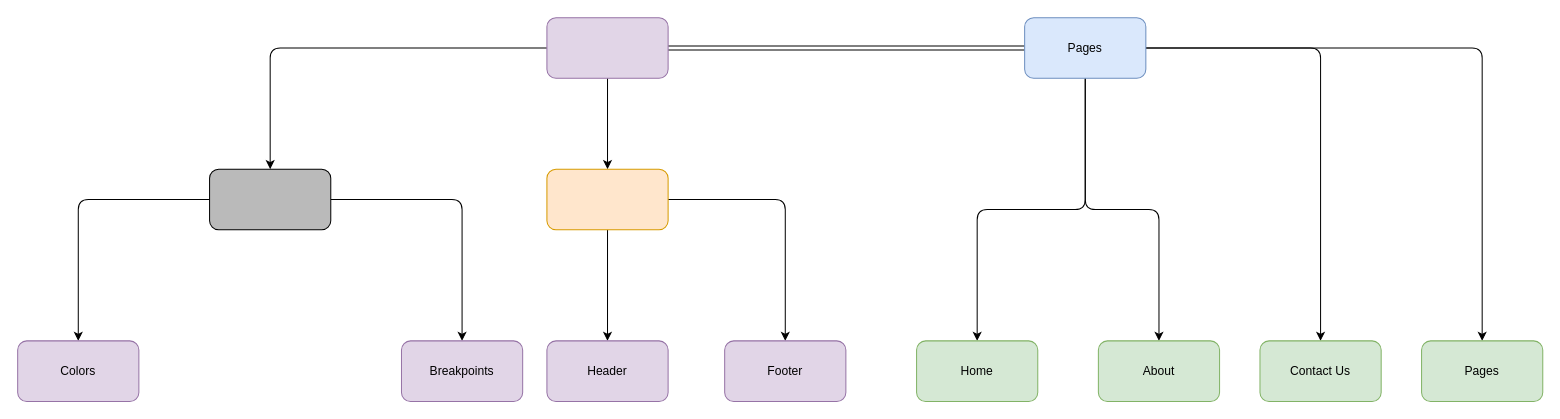
Some shapes in this 1560 by 419 pixel diagram are drawn without their labels. The shapes that lost their labels are listed below. From the top down, each one's centre as x and y in pixels, then its label:
(x=607, y=47): Styles
(x=270, y=199): defaults
(x=607, y=199): Components
